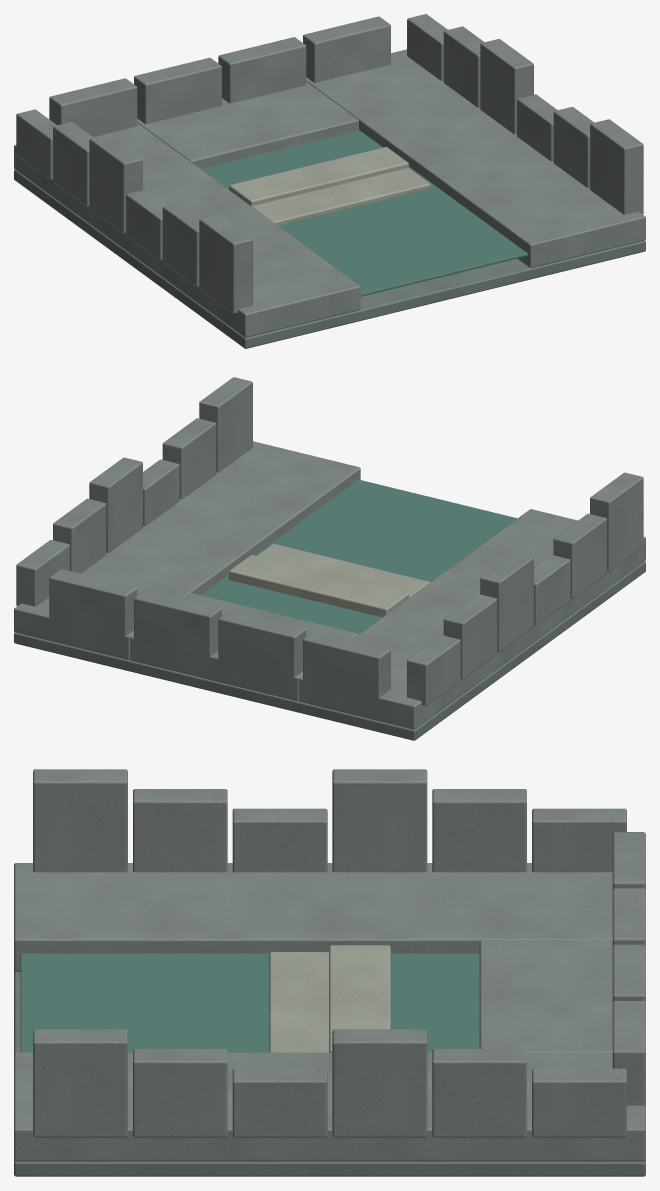
The model's file is bellroot-fen-floodward-marches-drowned-courtyard-found-75a6781a__32925.glb.
The picture shows the model from 3 angles, top to bottom: view 1: azimuth 30°, elevation 25°; view 2: azimuth 150°, elevation 25°; view 3: azimuth 270°, elevation 25°; orthographic projection. The views are drawn at different scales.
Visible parts, largest first — view 1: drowned-courtyard-foundation; view 2: drowned-courtyard-foundation; view 3: drowned-courtyard-foundation.
Part boxes in pixels (left/top/right/bottom): drowned-courtyard-foundation: left=14, top=14, right=645, bottom=348; drowned-courtyard-foundation: left=14, top=377, right=645, bottom=740; drowned-courtyard-foundation: left=14, top=769, right=645, bottom=1176.
Size of the model in its own units: 3.89 by 0.9201 by 3.8.
Materials: 4 (3 with a texture image).
